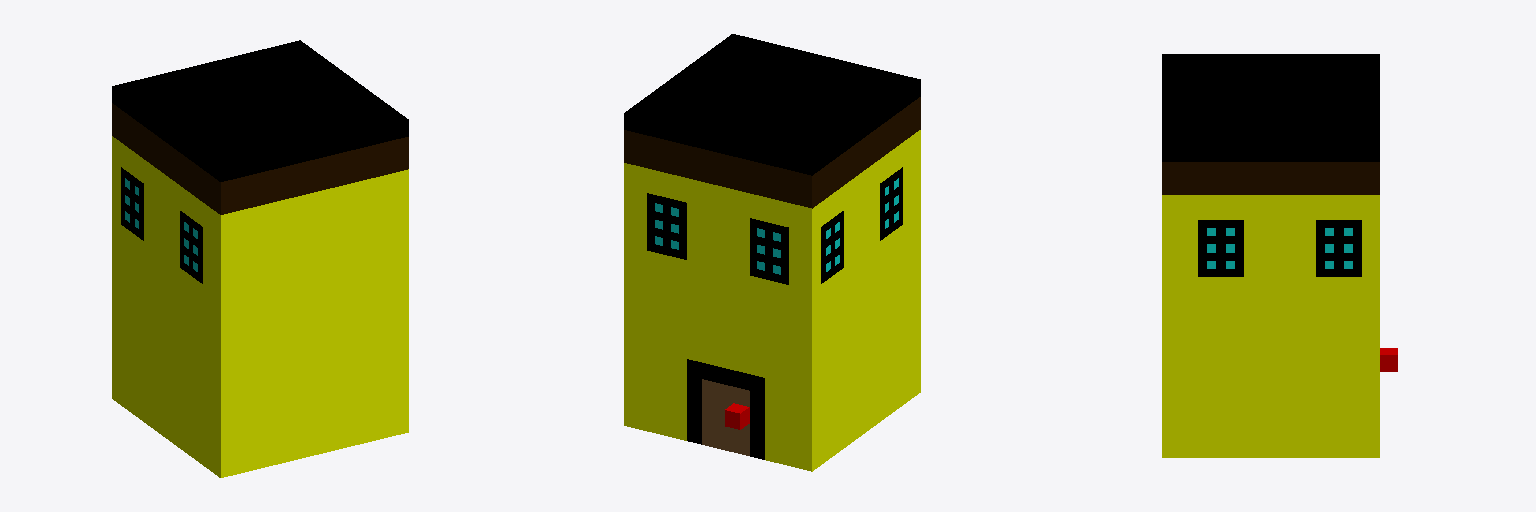
The picture shows the model from 3 angles: view 1: azimuth 30°, elevation 25°; view 2: azimuth 150°, elevation 25°; view 3: azimuth 270°, elevation 25°; orthographic projection.
Parts seen in each view (by area): view 1: object 1; view 2: object 1; view 3: object 1.
Boxes of the visible parts, x1,y1,x2,y2 form: object 1: [112, 40, 408, 477]; object 1: [624, 34, 920, 471]; object 1: [1162, 54, 1397, 457].
Bounding box in the file's own units: 2.4 × 3.8 × 2.6.
1 materials, 1 textured.